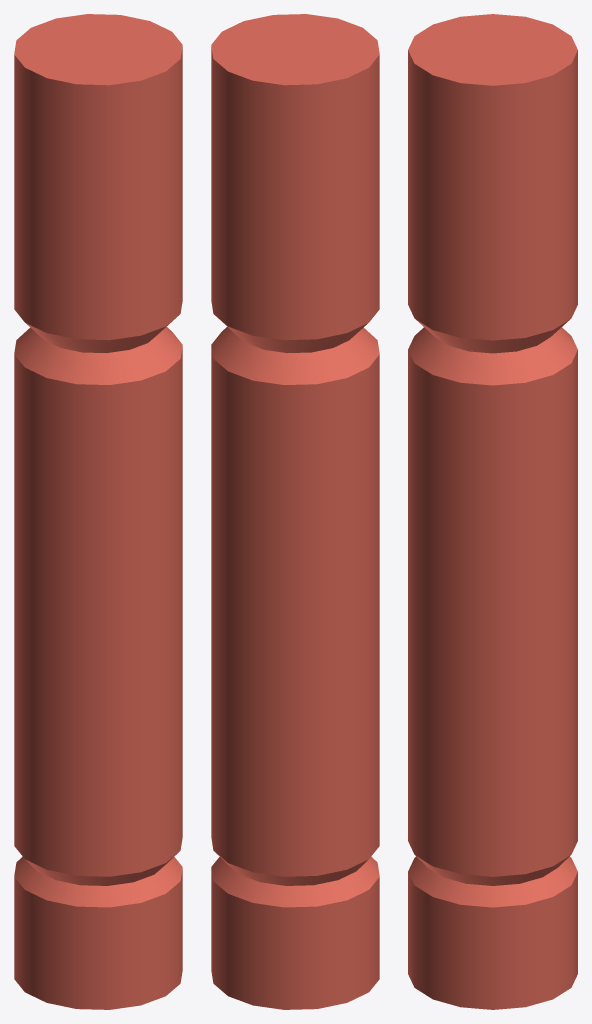
Rendered from ChairLeg2.fbx.
The picture shows the model from 3 angles, left to right: view 1: azimuth 30°, elevation 25°; view 2: azimuth 150°, elevation 25°; view 3: azimuth 270°, elevation 25°; orthographic projection.
Visible parts, largest first — view 1: ChairLeg2; view 2: ChairLeg2; view 3: ChairLeg2.
Part boxes in pixels (x1=…): ChairLeg2: x1=14, y1=14, x2=182, y2=1009; ChairLeg2: x1=211, y1=14, x2=379, y2=1009; ChairLeg2: x1=408, y1=14, x2=577, y2=1009.
Bounding box in the file's own units: 0.08 × 0.48 × 0.08.
